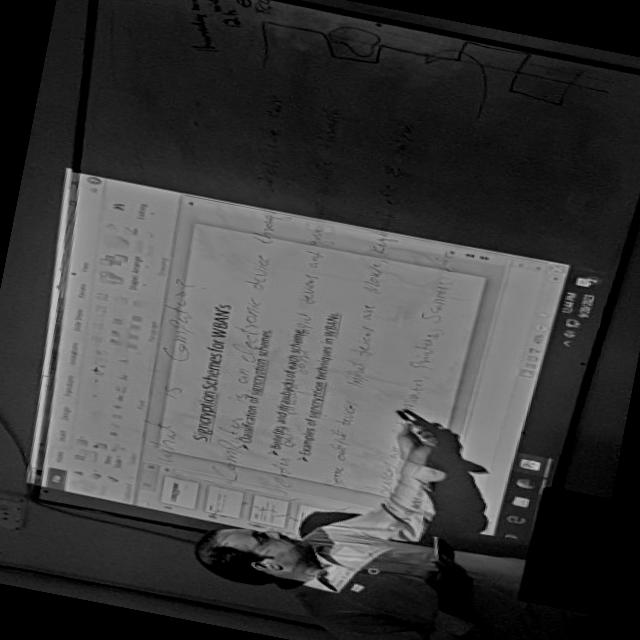Instructor: (179, 493, 572, 640)
Slide: (30, 170, 601, 582)
White-board: (36, 0, 640, 588)
